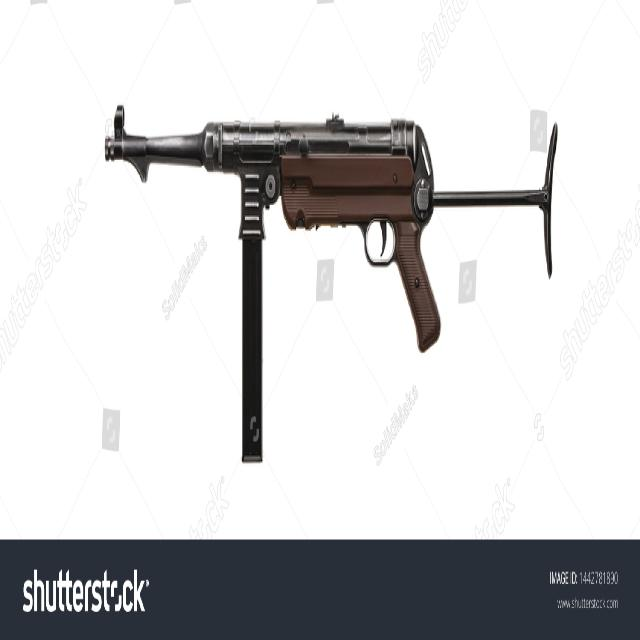SMG: (107, 109, 559, 467)
